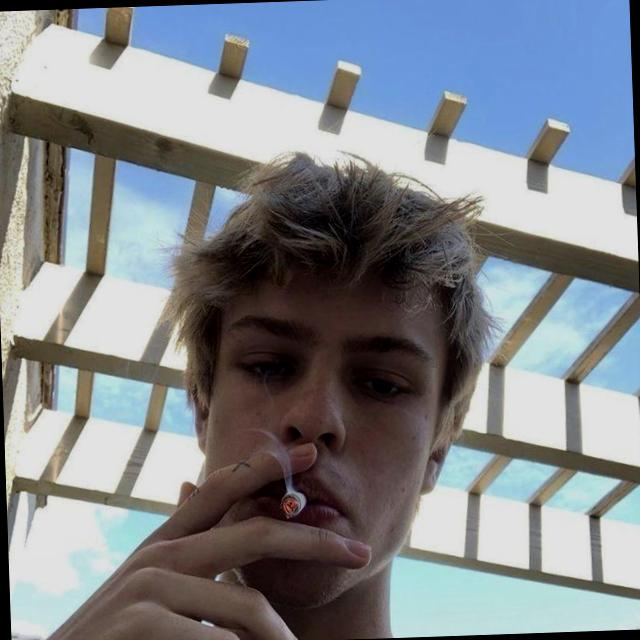cigarette: (258, 460, 332, 550)
